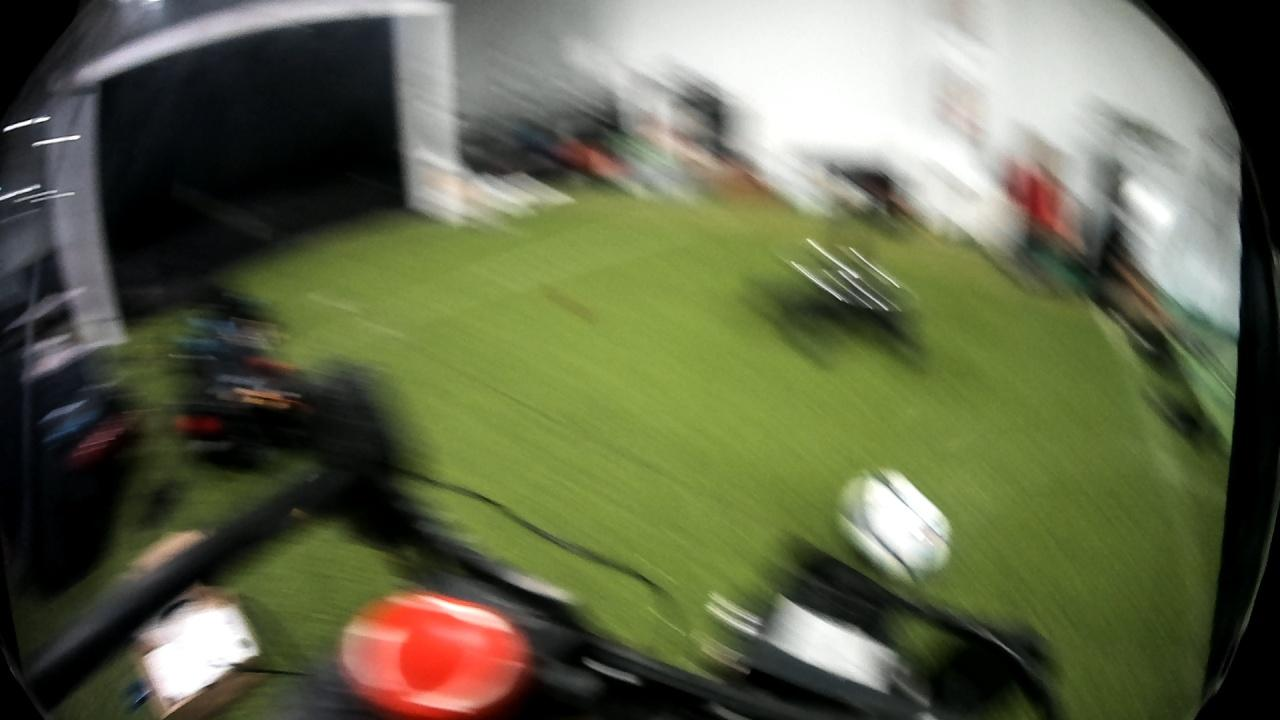ball: (836, 457, 954, 587)
